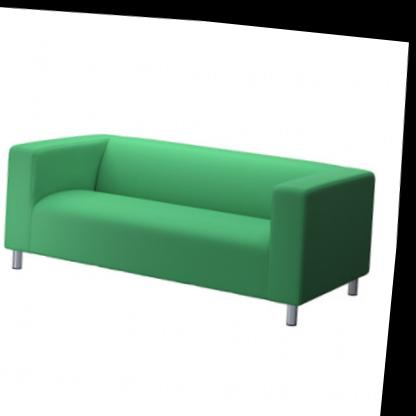Sofa: (0, 106, 389, 337)
